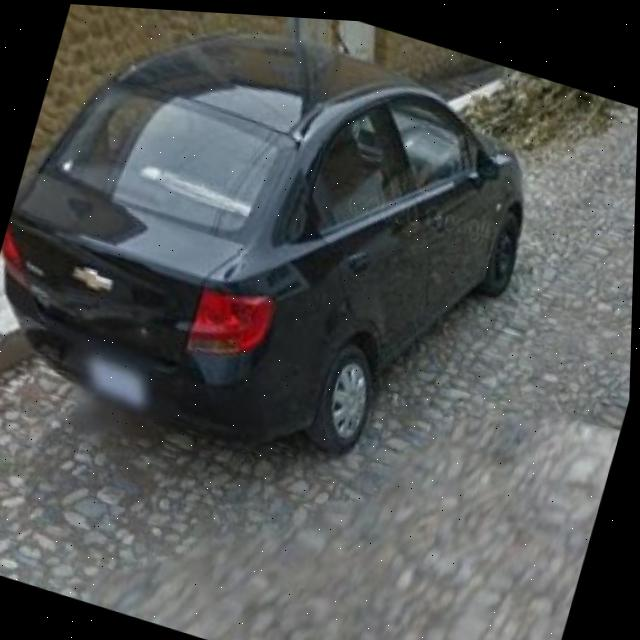vehicle: (0, 0, 559, 520)
